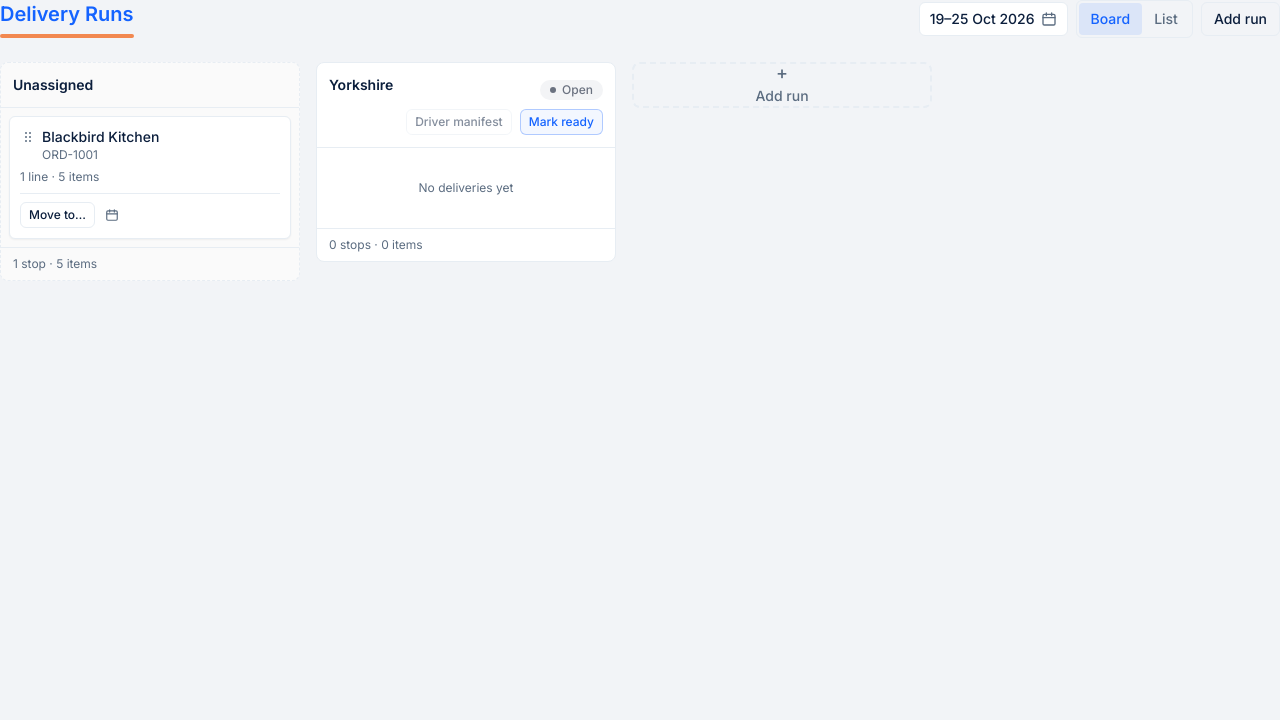
Scenario: DeliveryRunsPage — change delivery date flow › on 422, shows the server-provided detail and refetches
Click the button named "Change delivery date" at (112, 215), box x1=101 y1=204 x2=123 y2=226
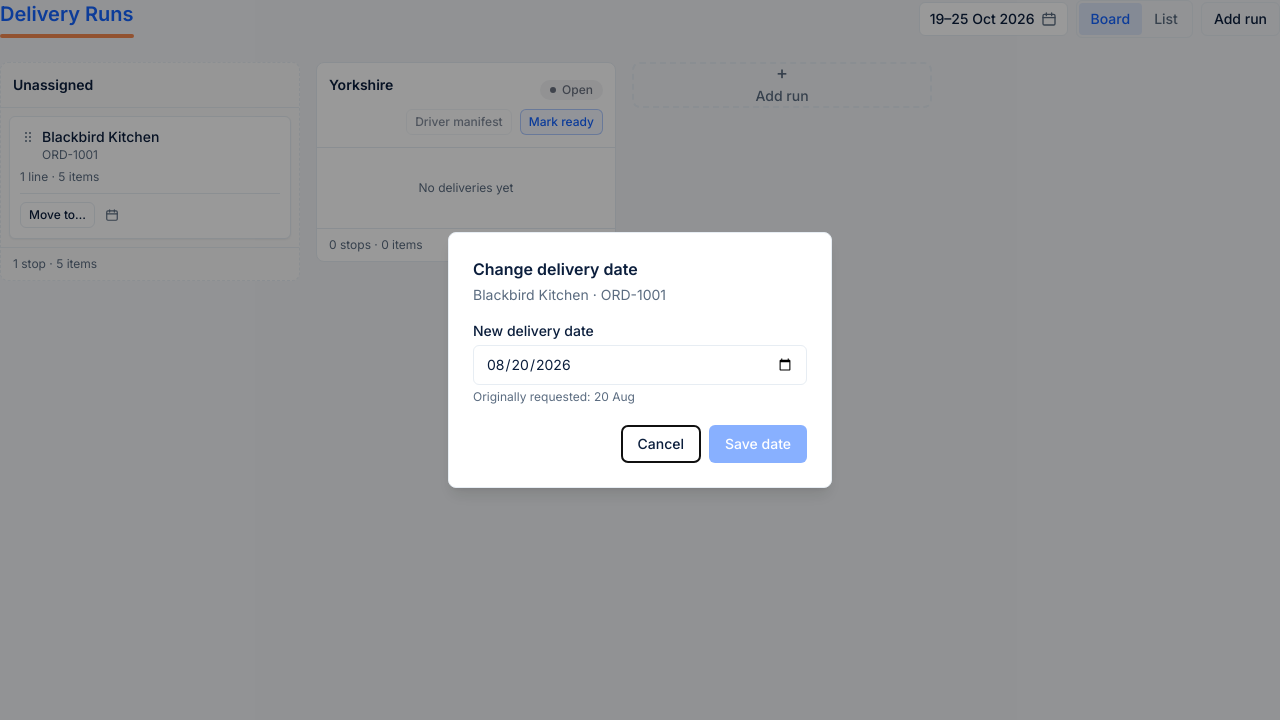
Clear the date field labelled "New delivery date" at (640, 365), box x1=473 y1=345 x2=807 y2=385
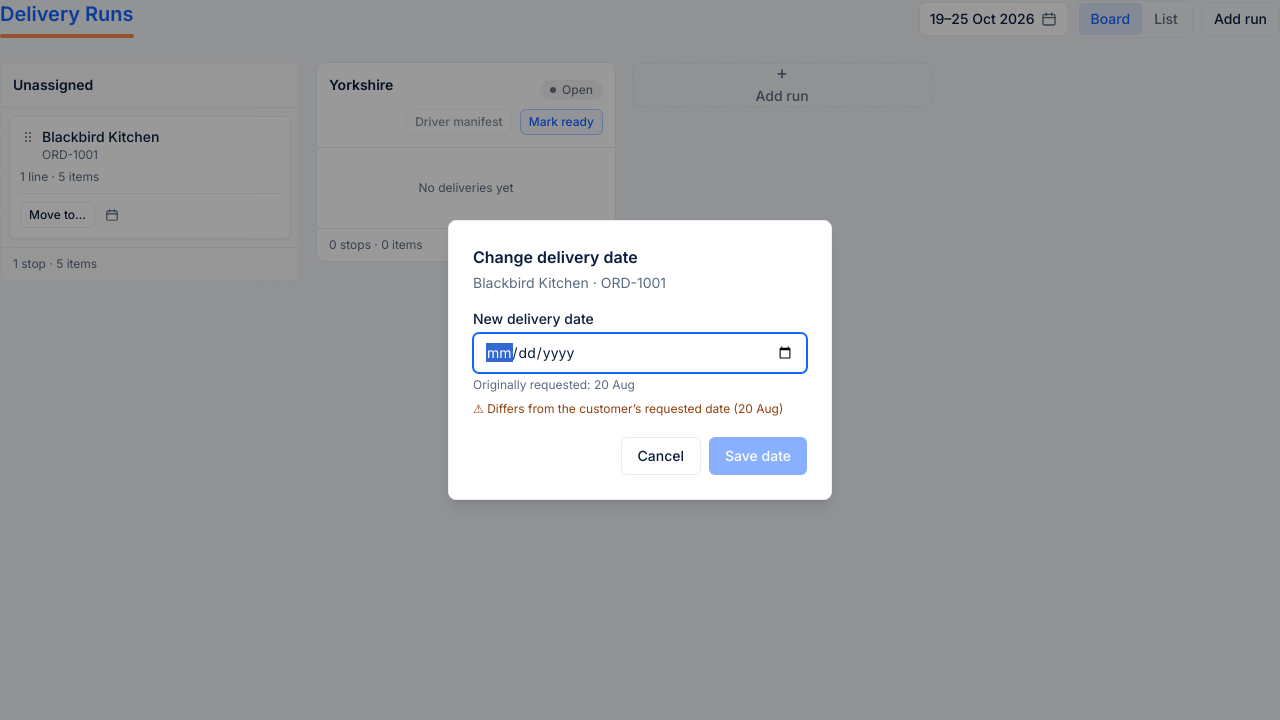
Type "2026-08-25" into the date field labelled "New delivery date" at (640, 353), box x1=473 y1=333 x2=807 y2=373
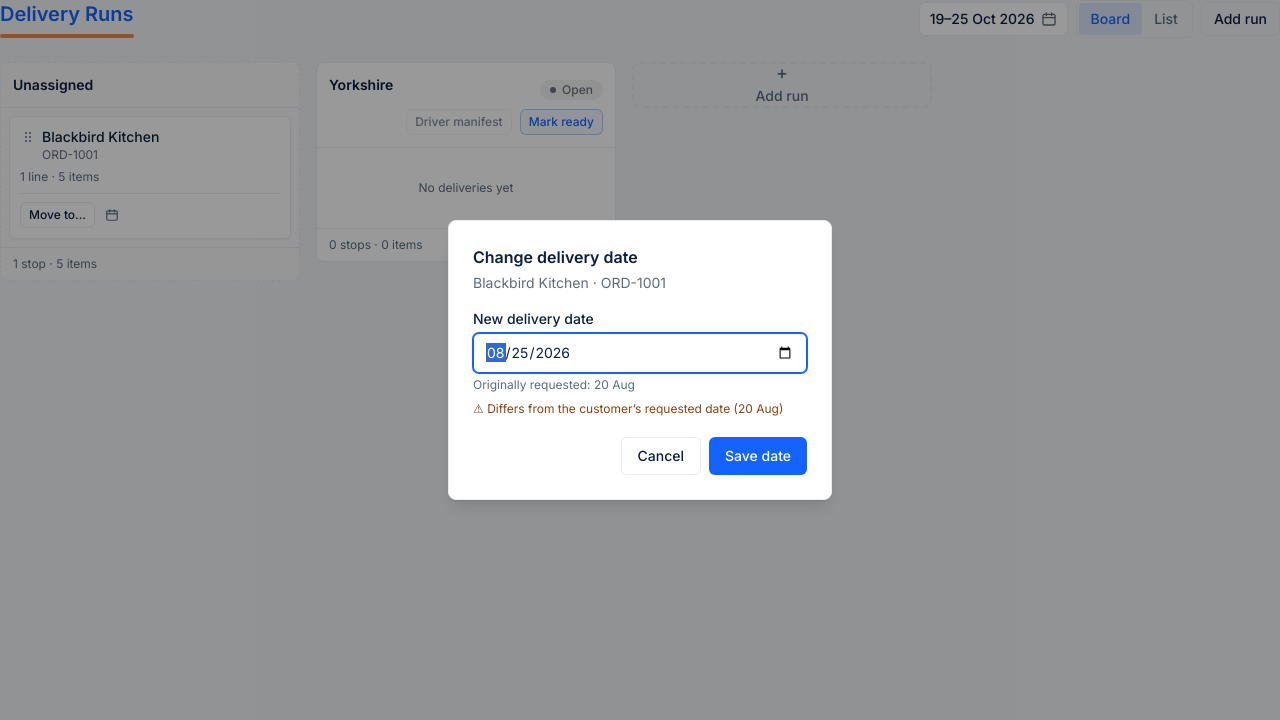
Expected: the button "Save date" is enabled
Click the button "Save date" at (758, 456), box x1=709 y1=437 x2=807 y2=475
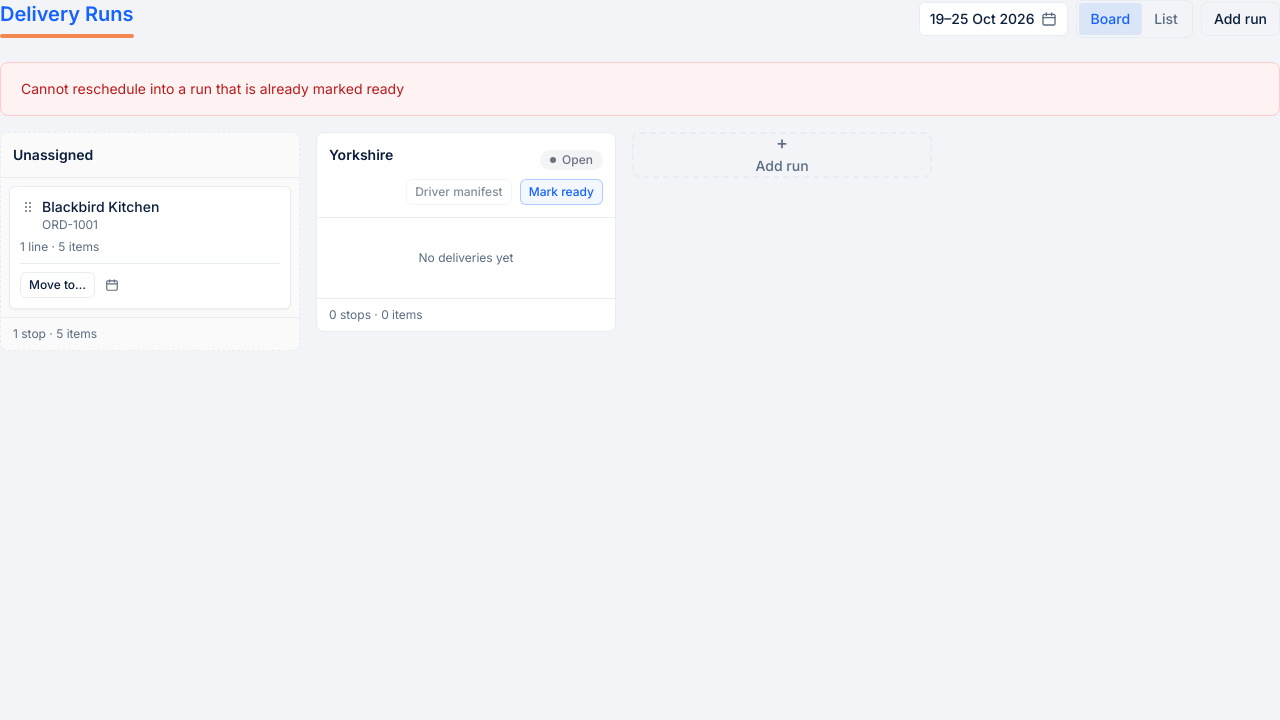
Expected: the text "Cannot reschedule into a run that is already marked ready" is shown, x1=0 y1=62 x2=1279 y2=116
